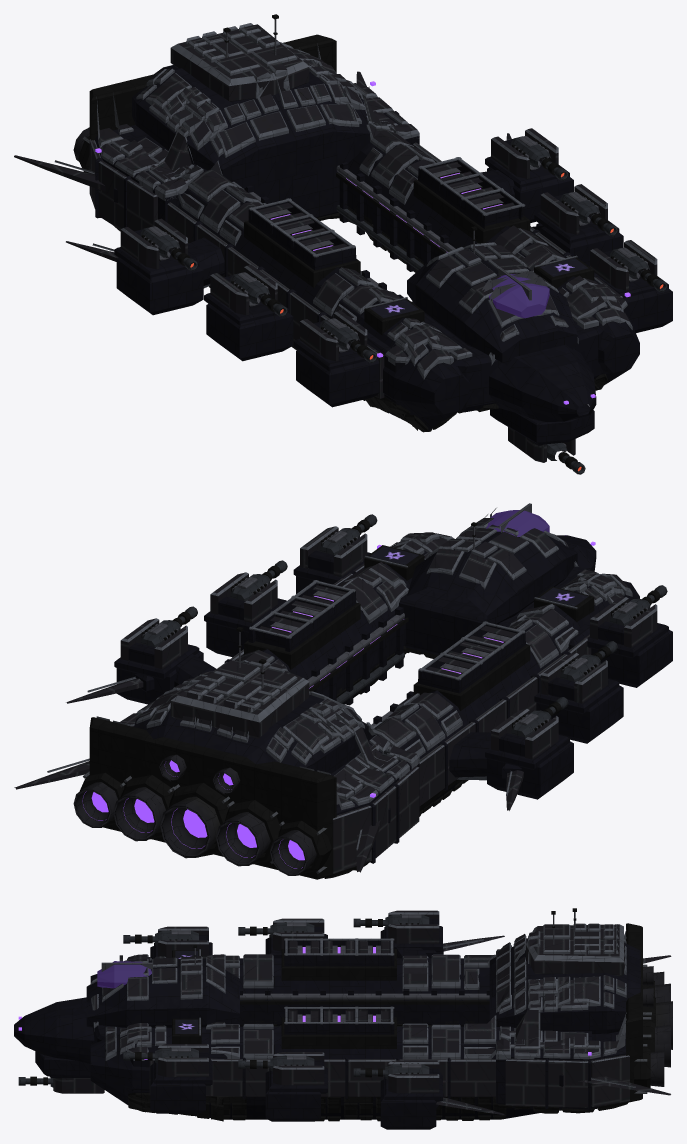
Rendered from eris-schiff4.glb.
3 renders of one model, top to bottom at view 1: azimuth 30°, elevation 25°; view 2: azimuth 150°, elevation 25°; view 3: azimuth 270°, elevation 25°, orthographic. The views are drawn at different scales.
Visible parts, largest first — view 1: Hull_LOD0, Laser_02, Laser_06, Laser_03, Laser_04, Laser_05, Laser_01; view 2: Hull_LOD0, EngineLight, Laser_04, Laser_06, Laser_02, Laser_03, Laser_05, Laser_01; view 3: Hull_LOD0, Laser_04, Laser_02, Laser_06, Laser_03, Laser_05, Laser_01, Faction_Insignia_Left.
Part boxes in pixels (bbox=[...]): Hull_LOD0: bbox=[14, 14, 672, 462]; Laser_02: bbox=[319, 318, 377, 363]; Laser_06: bbox=[140, 226, 197, 271]; Laser_03: bbox=[560, 191, 617, 236]; Laser_04: bbox=[230, 272, 287, 317]; Laser_05: bbox=[511, 136, 568, 180]; Laser_01: bbox=[610, 247, 667, 292]; Hull_LOD0: bbox=[14, 503, 672, 879]; EngineLight: bbox=[82, 760, 304, 868]; Laser_04: bbox=[560, 641, 617, 681]; Laser_06: bbox=[511, 697, 568, 737]; Laser_02: bbox=[610, 585, 667, 625]; Laser_03: bbox=[230, 560, 287, 601]; Laser_05: bbox=[140, 606, 197, 647]; Laser_01: bbox=[319, 514, 377, 555]; Hull_LOD0: bbox=[14, 908, 672, 1129]; Laser_04: bbox=[238, 922, 314, 937]; Laser_02: bbox=[123, 930, 198, 945]; Laser_06: bbox=[353, 914, 429, 929]; Laser_03: bbox=[238, 1055, 314, 1071]; Laser_05: bbox=[353, 1063, 429, 1079]; Laser_01: bbox=[123, 1047, 198, 1063]; Faction_Insignia_Left: bbox=[175, 1019, 198, 1033].
Bounding box in the file's own units: 39.78 × 19.05 × 61.8.
Materials: 6 (4 with a texture image).
